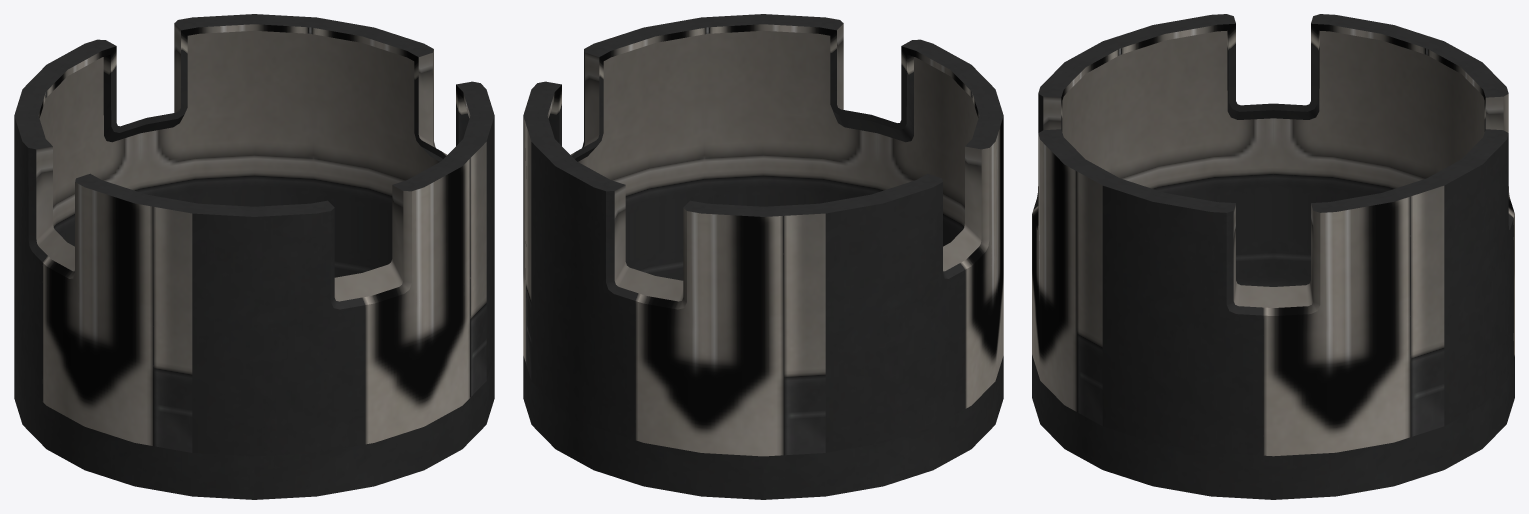
File: stage3interstage_long.fbx
3 views of the same model, side by side, from view 1: azimuth 30°, elevation 25°; view 2: azimuth 150°, elevation 25°; view 3: azimuth 270°, elevation 25° (orthographic).
Visible parts, largest first — view 1: mesh; view 2: mesh; view 3: mesh.
Boxes of the visible parts, x1=… form: mesh: x1=14, y1=14, x2=494, y2=499; mesh: x1=523, y1=14, x2=1003, y2=499; mesh: x1=1032, y1=14, x2=1514, y2=499.
Bounding box in the file's own units: 2.5 × 1.63 × 2.5.
